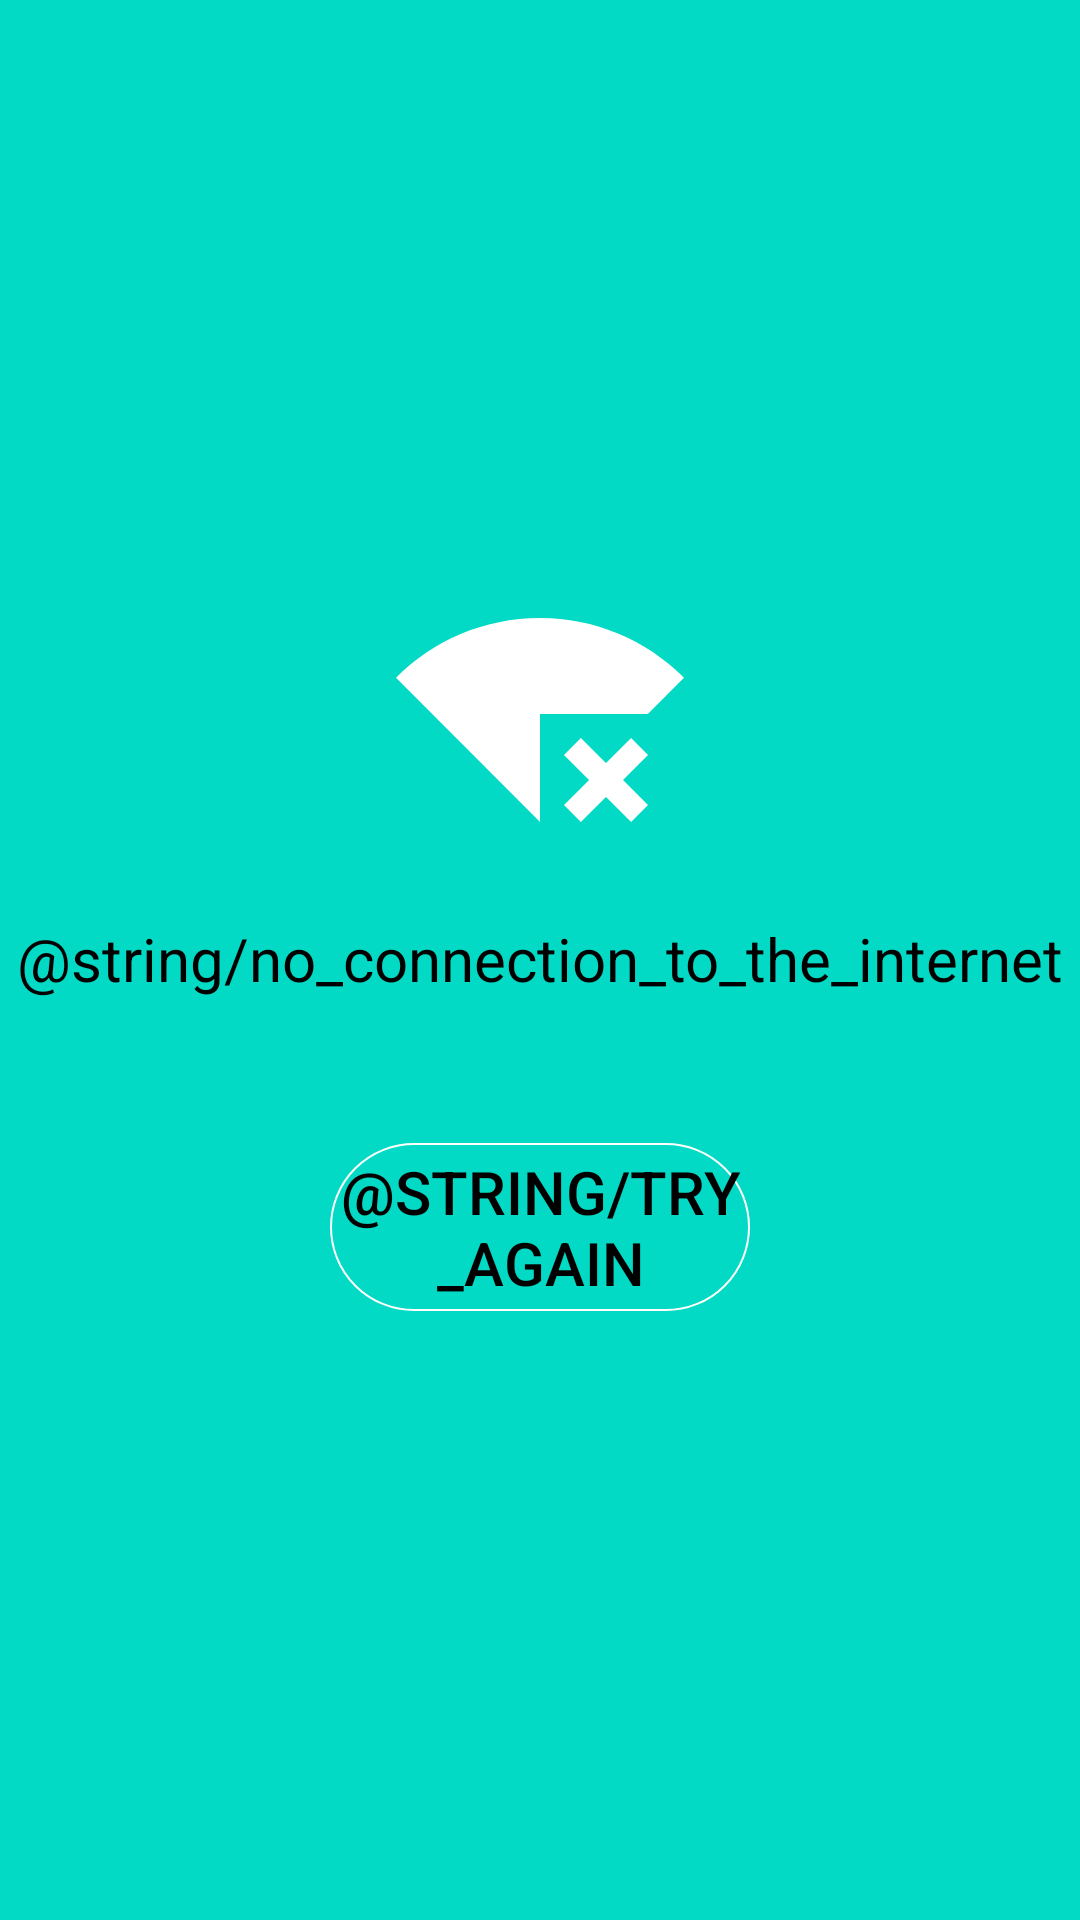

Named icons in this screenshot (1080*1920) and their centers, [x,y]:
wifi: [540,720]
